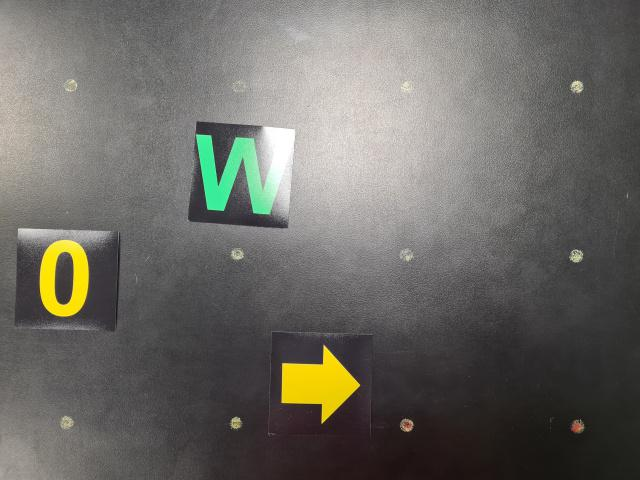0: (13, 227, 119, 331)
right: (268, 331, 373, 434)
w: (188, 121, 296, 231)
